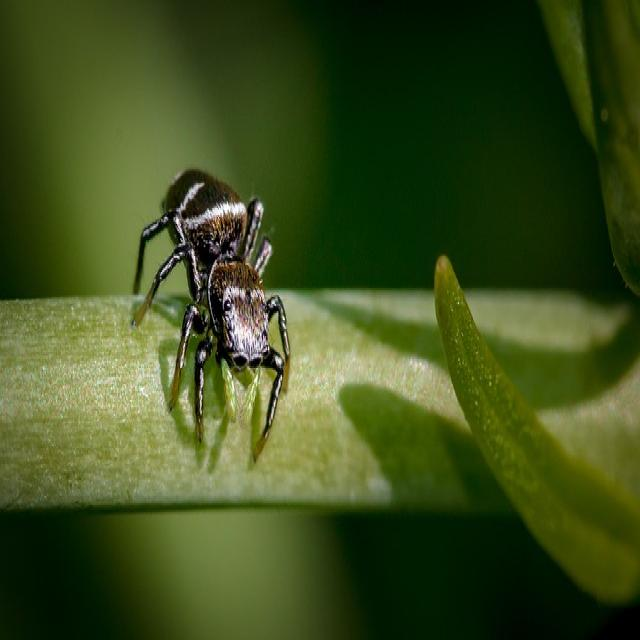spyder: (135, 169, 288, 404)
